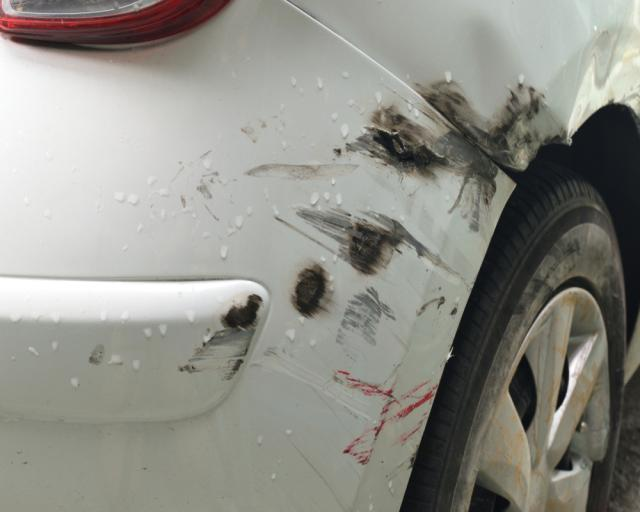dent: (568, 25, 640, 140), (460, 21, 522, 119)
scratch: (243, 93, 516, 479), (411, 77, 558, 188), (176, 290, 263, 385)
